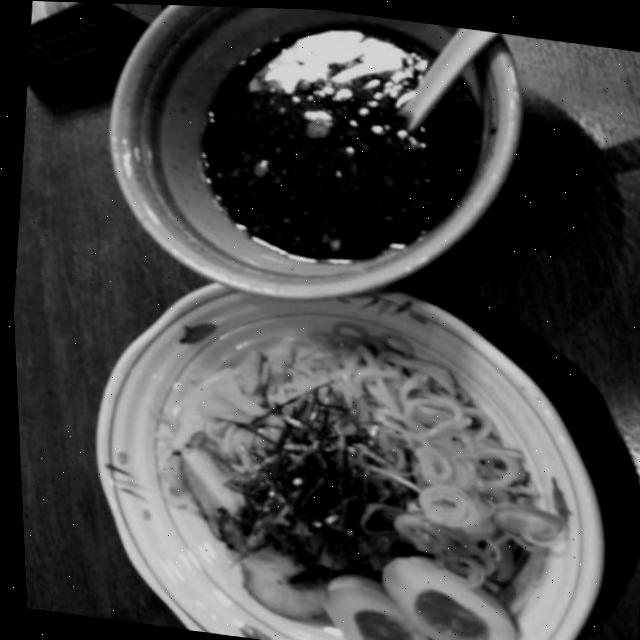面条主食: (20, 0, 640, 640)
